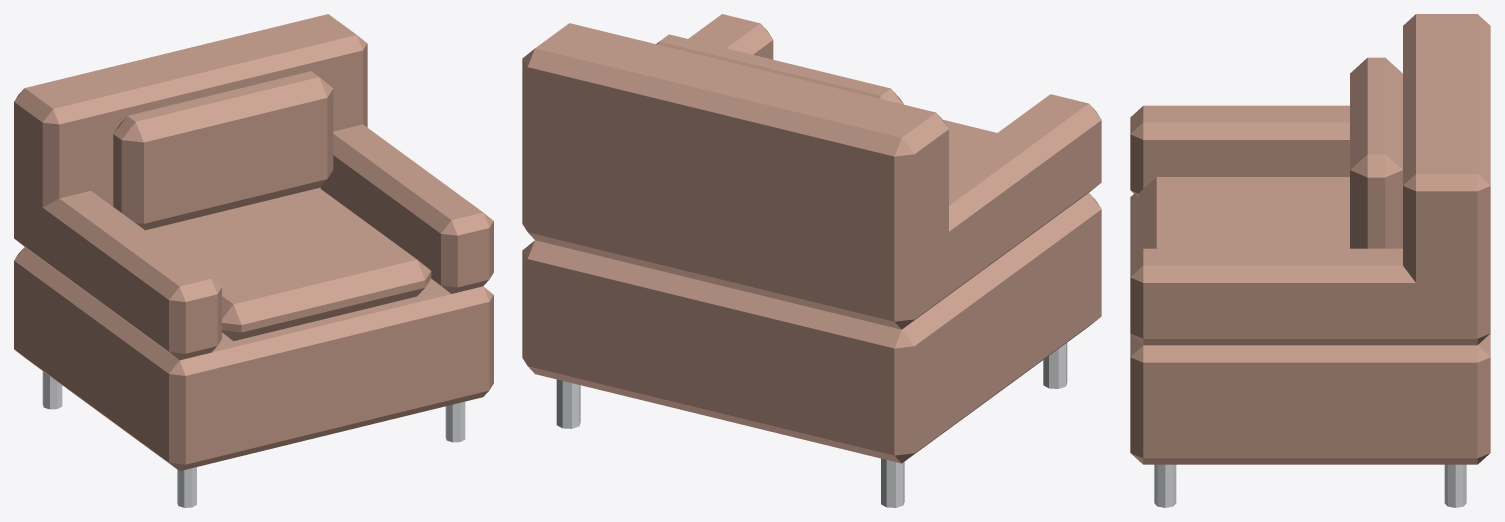
File: armchair.glb
The picture shows the model from 3 angles, left to right: view 1: azimuth 30°, elevation 25°; view 2: azimuth 150°, elevation 25°; view 3: azimuth 270°, elevation 25°; orthographic projection. The views are drawn at different scales.
Visible parts, largest first — view 1: armchair_fabric3, armchair_chrome; view 2: armchair_fabric3, armchair_chrome; view 3: armchair_fabric3, armchair_chrome.
Boxes of the visible parts, <box> form: armchair_fabric3: <box>14,14,493,471</box>; armchair_chrome: <box>42,371,465,507</box>; armchair_fabric3: <box>522,14,1101,463</box>; armchair_chrome: <box>556,343,1067,507</box>; armchair_fabric3: <box>1130,14,1490,464</box>; armchair_chrome: <box>1154,464,1466,507</box>.
Size of the model in its own units: 0.92 by 0.85 by 0.82.
